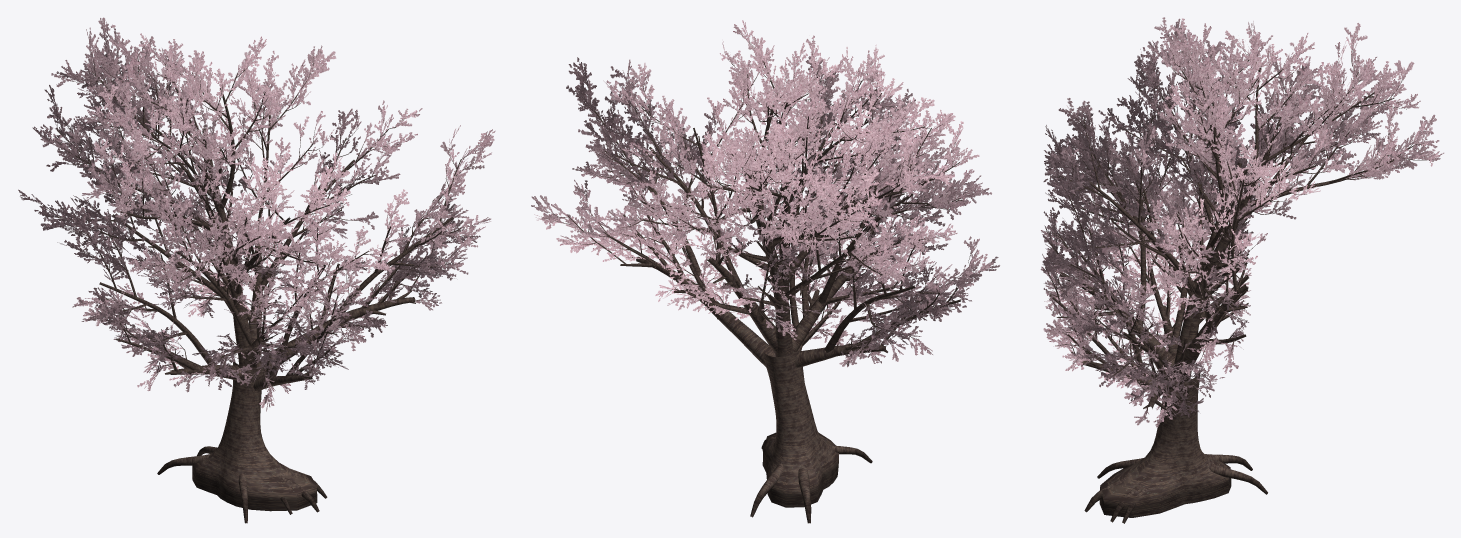
File: tree_sakura.glb
3 renders of one model, left to right at view 1: azimuth 30°, elevation 25°; view 2: azimuth 150°, elevation 25°; view 3: azimuth 270°, elevation 25°, orthographic. The views are drawn at different scales.
Visible parts, largest first — view 1: sakura_blossom, sakura_trunk; view 2: sakura_blossom, sakura_trunk; view 3: sakura_blossom, sakura_trunk.
Part boxes in pixels (box(x1,y1,x2,y2)): sakura_blossom: box(18, 17, 495, 411); sakura_trunk: box(37, 41, 476, 523); sakura_blossom: box(531, 20, 999, 367); sakura_trunk: box(549, 42, 970, 523); sakura_blossom: box(1040, 17, 1444, 427); sakura_trunk: box(1042, 36, 1426, 523).
Bounding box in the file's own units: 8.72 × 8.72 × 7.04.
Materials: 2 (2 with a texture image).
